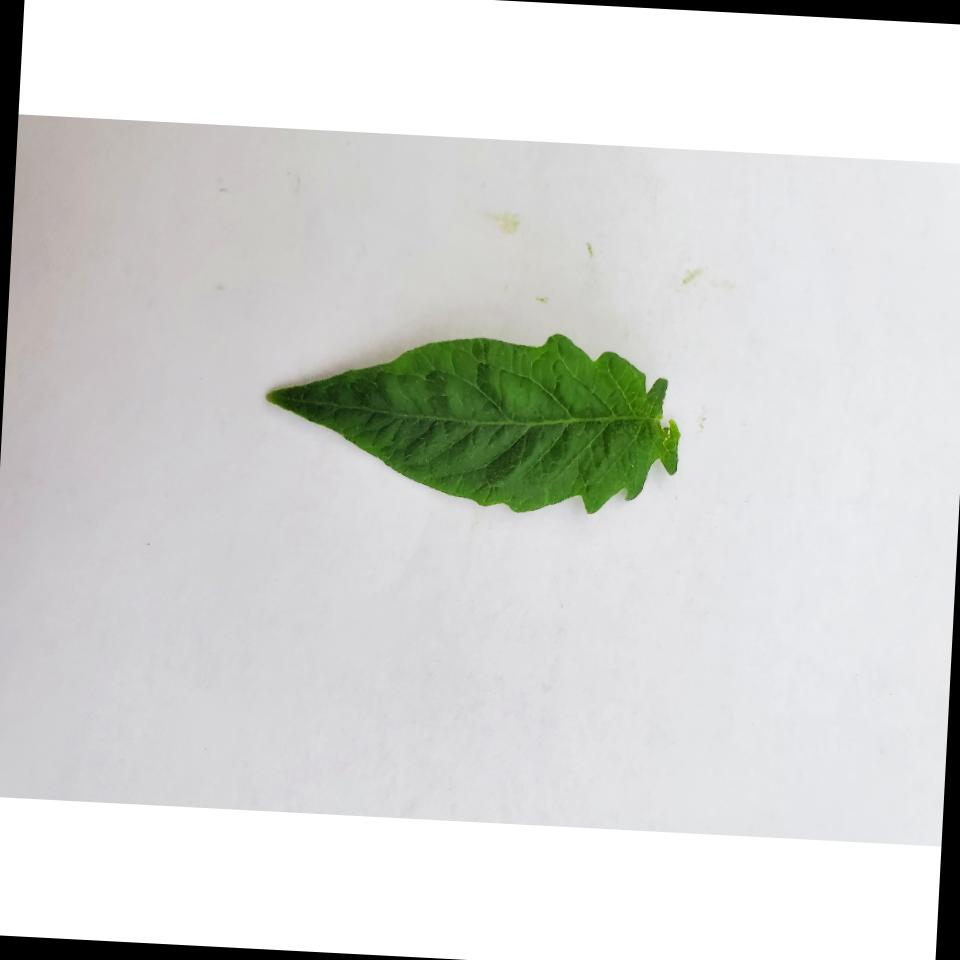tomato_leaves: (260, 316, 694, 522)
